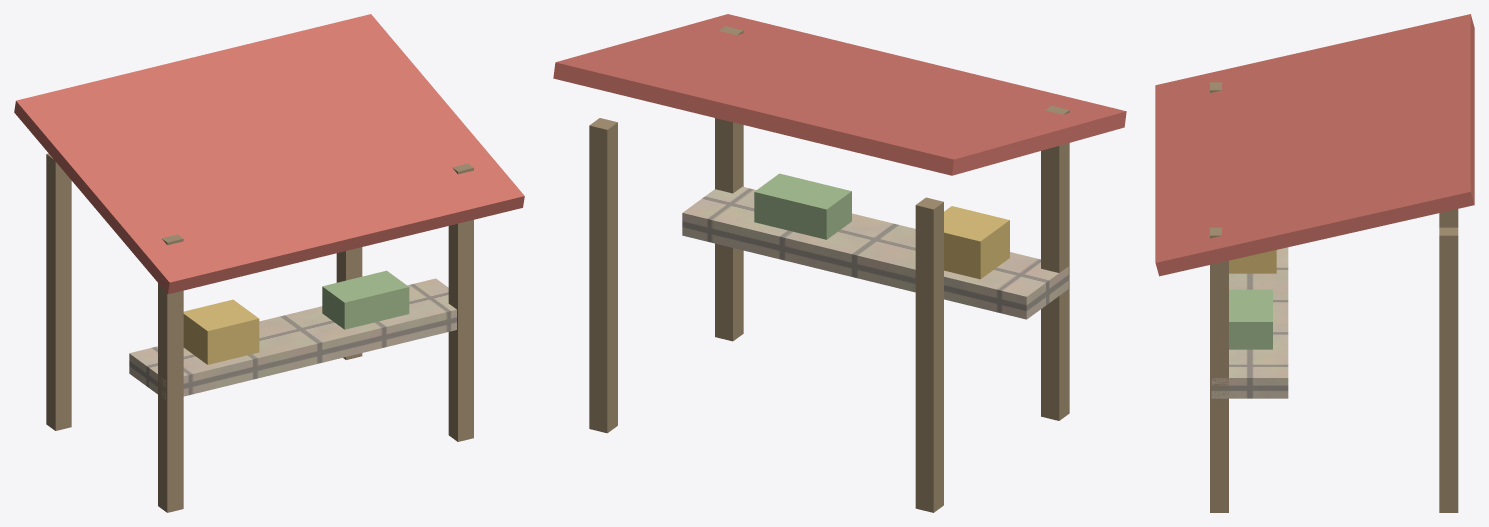
File: stall.glb
3 renders of one model, left to right at view 1: azimuth 30°, elevation 25°; view 2: azimuth 150°, elevation 25°; view 3: azimuth 270°, elevation 25°, orthographic. The views are drawn at different scales.
Visible parts, largest first — view 1: stall awning, stall counter, stall post 3, stall post 1, stall post 2, stall goods 1, stall goods 2, stall post 4; view 2: stall awning, stall counter, stall post 3, stall post 4, stall post 1, stall post 2, stall goods 2, stall goods 1; view 3: stall awning, stall post 4, stall counter, stall post 2, stall goods 2, stall goods 1.
Boxes of the visible parts, left/top/right/bottom form: stall awning: left=14, top=14, right=524, bottom=294; stall counter: left=129, top=278, right=456, bottom=399; stall post 3: left=46, top=153, right=71, bottom=430; stall post 1: left=158, top=234, right=183, bottom=512; stall post 2: left=448, top=163, right=473, bottom=441; stall goods 1: left=183, top=299, right=259, bottom=364; stall goods 2: left=322, top=270, right=409, bottom=329; stall post 4: left=336, top=247, right=362, bottom=359; stall awning: left=553, top=14, right=1126, bottom=175; stall counter: left=682, top=186, right=1068, bottom=319; stall post 3: left=915, top=197, right=943, bottom=512; stall post 4: left=589, top=118, right=617, bottom=433; stall post 1: left=1041, top=105, right=1069, bottom=420; stall post 2: left=715, top=26, right=743, bottom=341; stall goods 2: left=754, top=173, right=851, bottom=239; stall goods 1: left=944, top=206, right=1009, bottom=279; stall awning: left=1155, top=14, right=1474, bottom=276; stall post 4: left=1439, top=227, right=1458, bottom=512; stall counter: left=1211, top=247, right=1288, bottom=398; stall post 2: left=1210, top=227, right=1228, bottom=512; stall goods 2: left=1229, top=289, right=1272, bottom=349; stall goods 1: left=1229, top=250, right=1276, bottom=273.
Bounding box in the file's own units: 1.1 × 0.9622 × 0.8344.
8 materials, 1 textured.
